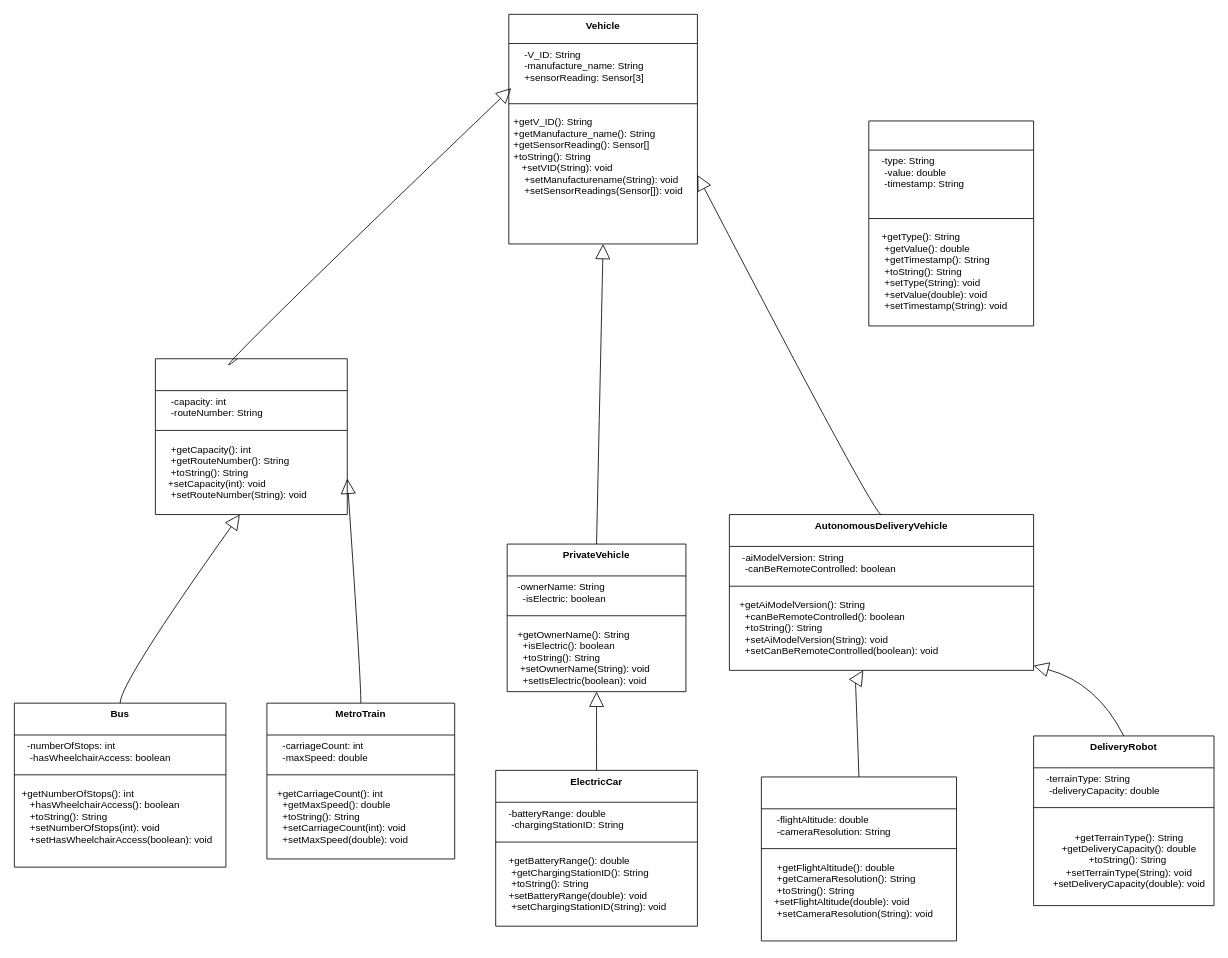
Some shapes in this 1228 by 958 pixel diagram are drawn without their labels. The box of each missing label's shape, as (x1, y1, x2, y2) in pixels:
Drone: (761, 776, 957, 941)
PublicVehicle: (155, 358, 347, 515)
SensorReading: (868, 120, 1034, 326)
